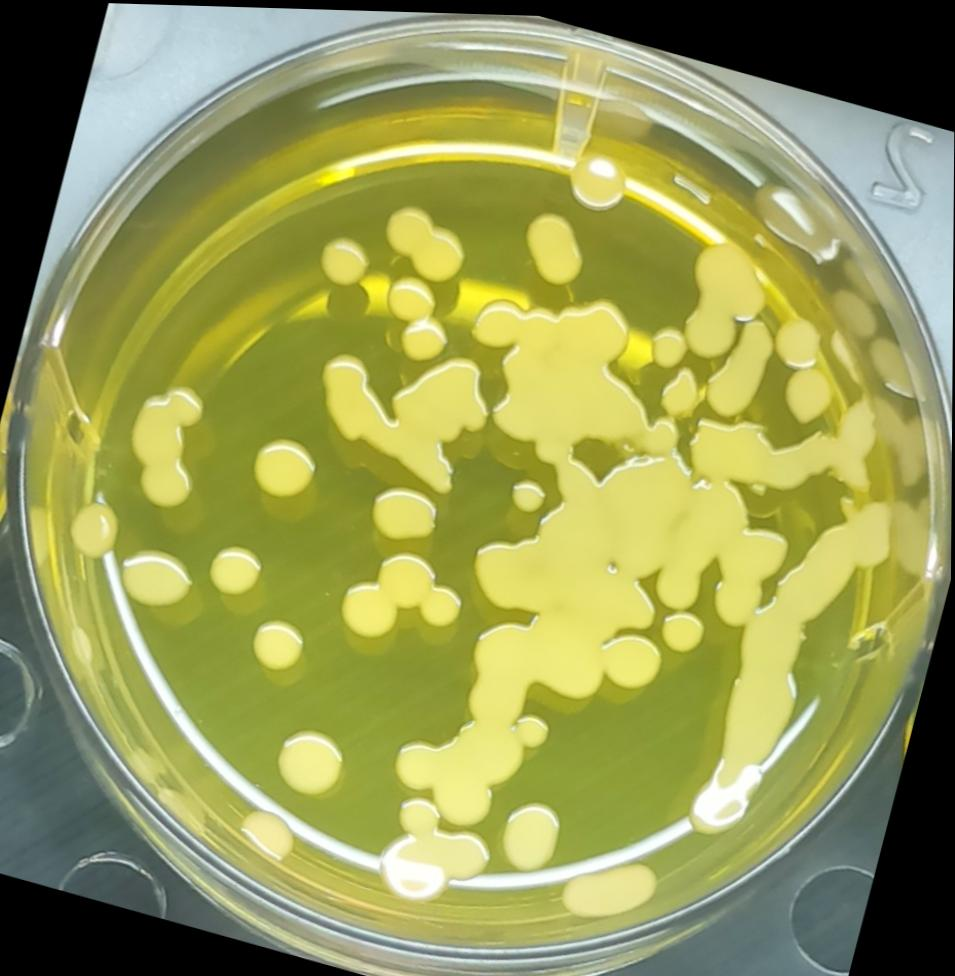staphylo-: (298, 316, 501, 494), (380, 674, 548, 848), (461, 262, 640, 379), (330, 527, 473, 665), (108, 353, 224, 513), (670, 224, 780, 372), (692, 293, 784, 431), (550, 835, 666, 936), (259, 707, 363, 811), (370, 191, 476, 289), (486, 783, 576, 884), (372, 266, 460, 366), (506, 193, 596, 289), (103, 536, 199, 626), (353, 475, 451, 551), (240, 426, 325, 505), (57, 490, 135, 572), (561, 136, 637, 214), (194, 532, 270, 609), (235, 606, 313, 679), (771, 354, 844, 431), (308, 223, 377, 297), (634, 313, 695, 375), (491, 462, 554, 520), (652, 598, 711, 658)
